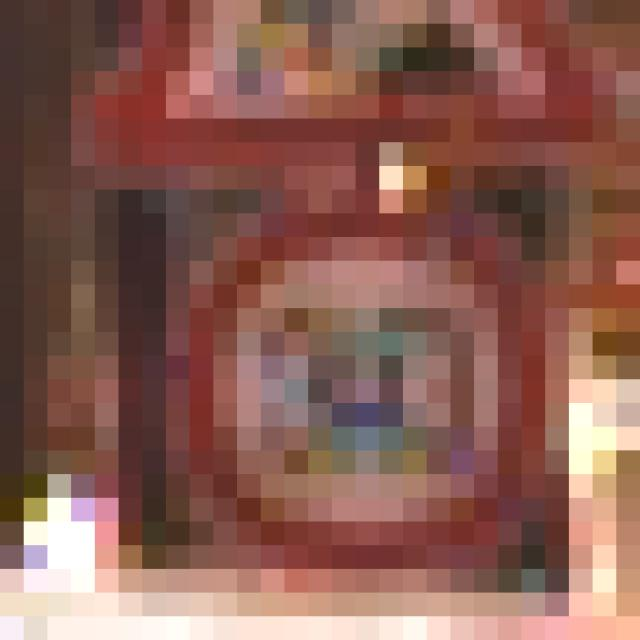Speed Limit -30-: (130, 130, 486, 510)
